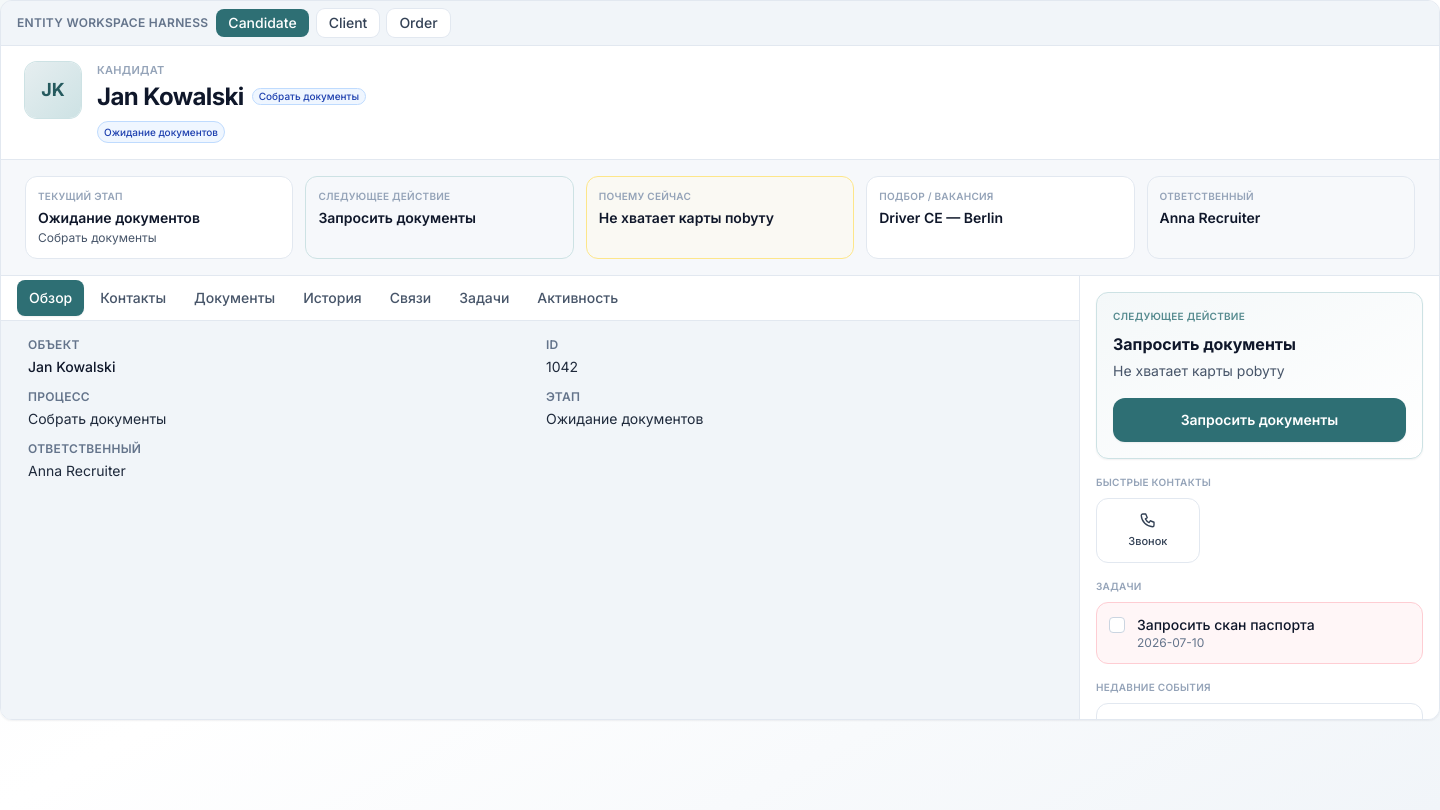
Test: EntityWorkspaceShell › harness switches between mocks
Click the button "order". click: click(418, 23)
box: x1=387 y1=9 x2=450 y2=37
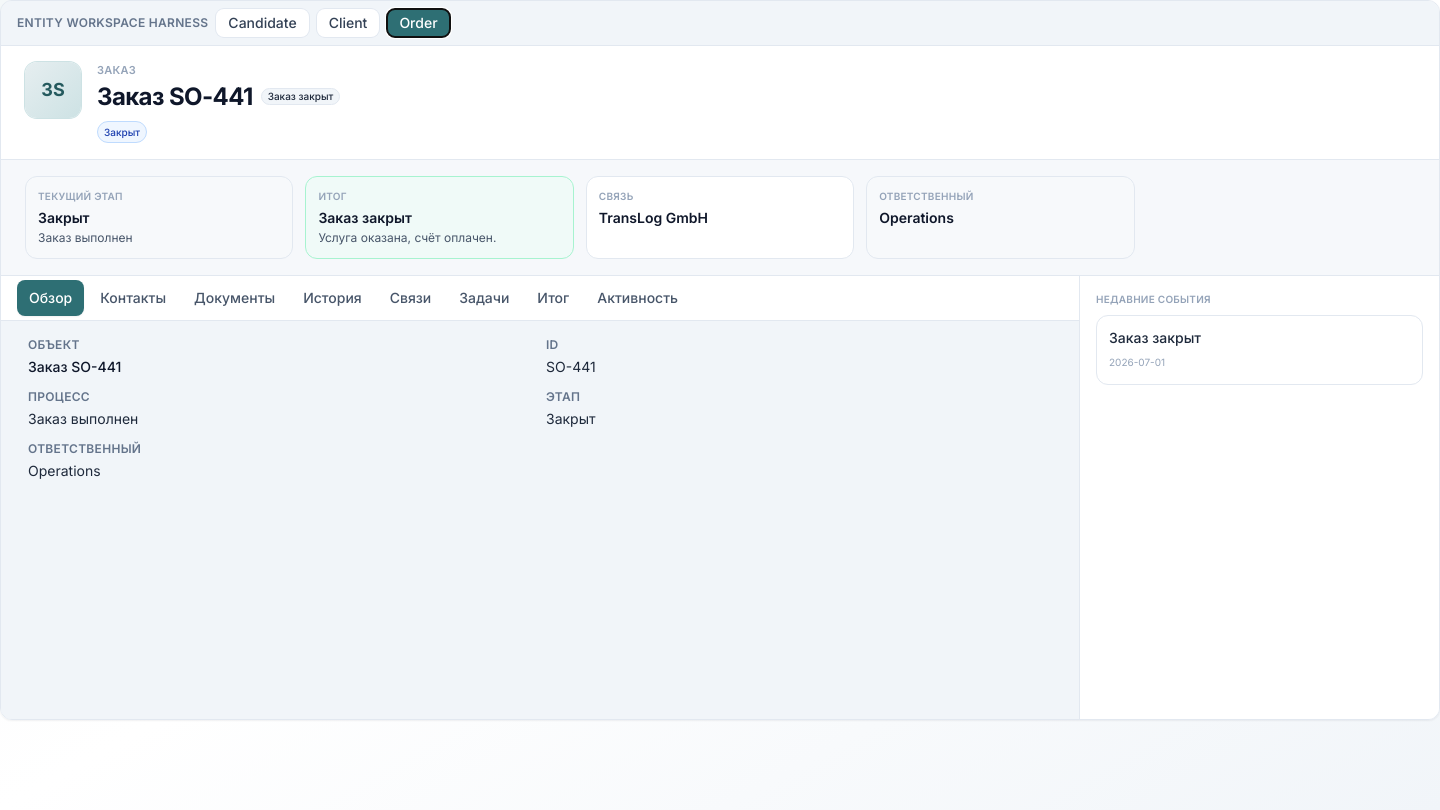
Expected: the heading "Заказ SO-441" is shown, x1=97 y1=80 x2=253 y2=112
